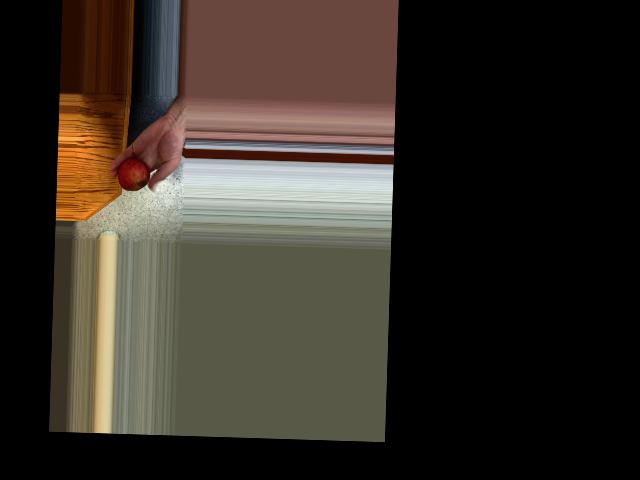apple: (118, 155, 153, 191)
